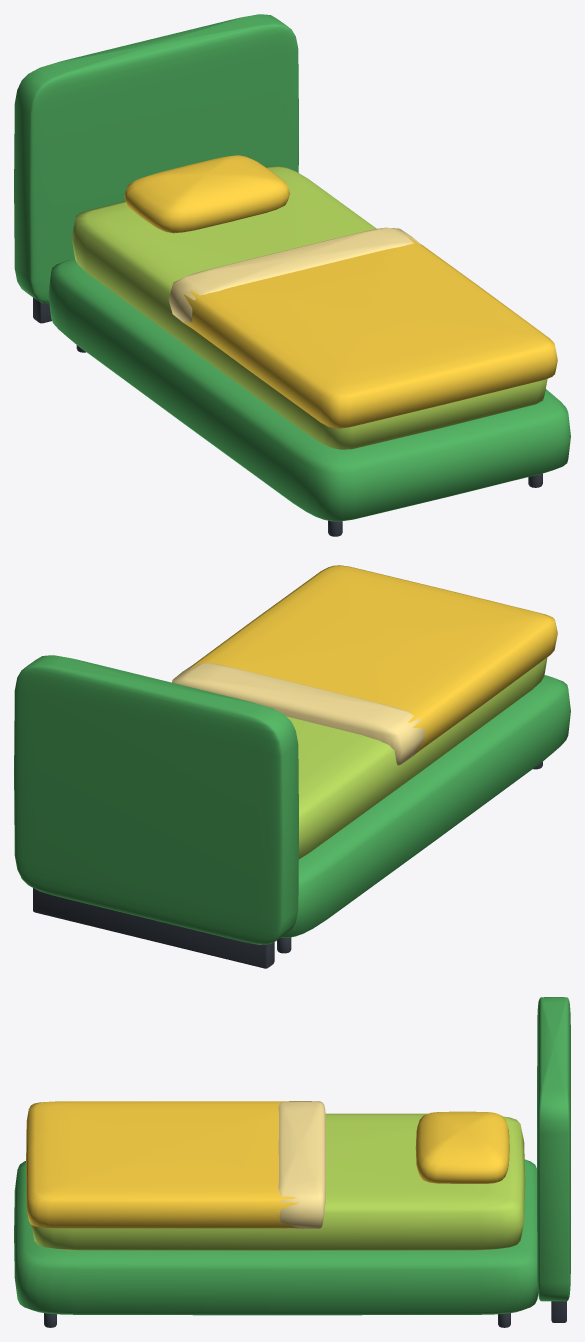
File: cama_solteiro_estofada_verde.glb
3 views of the same model, one above another, from view 1: azimuth 30°, elevation 25°; view 2: azimuth 150°, elevation 25°; view 3: azimuth 270°, elevation 25° (orthographic). The views are drawn at different scales.
Parts seen in each view (by area): view 1: cama_solteiro_estofada_verde; view 2: cama_solteiro_estofada_verde; view 3: cama_solteiro_estofada_verde.
Part boxes in pixels (box(x1,y1,x2,y2)): cama_solteiro_estofada_verde: box(14, 14, 570, 536); cama_solteiro_estofada_verde: box(14, 565, 570, 968); cama_solteiro_estofada_verde: box(14, 997, 570, 1327).
Size of the model in its own units: 1.08 by 1 by 2.13.
Materials: 1 (1 with a texture image).
